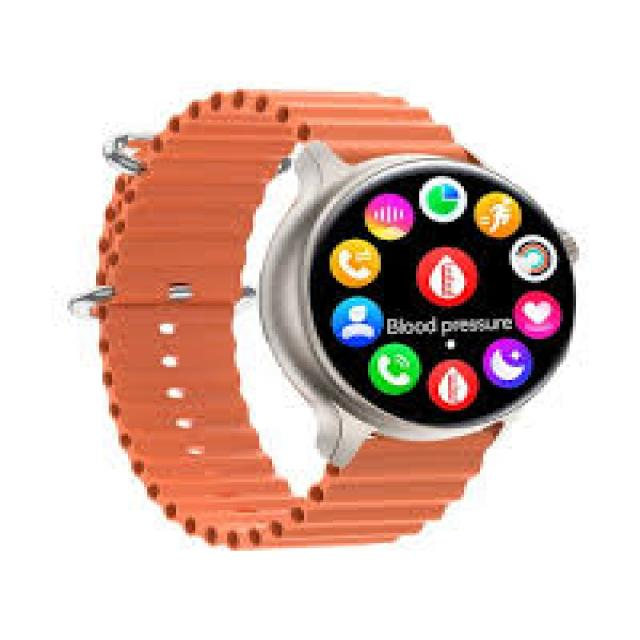watch: (250, 131, 598, 456)
